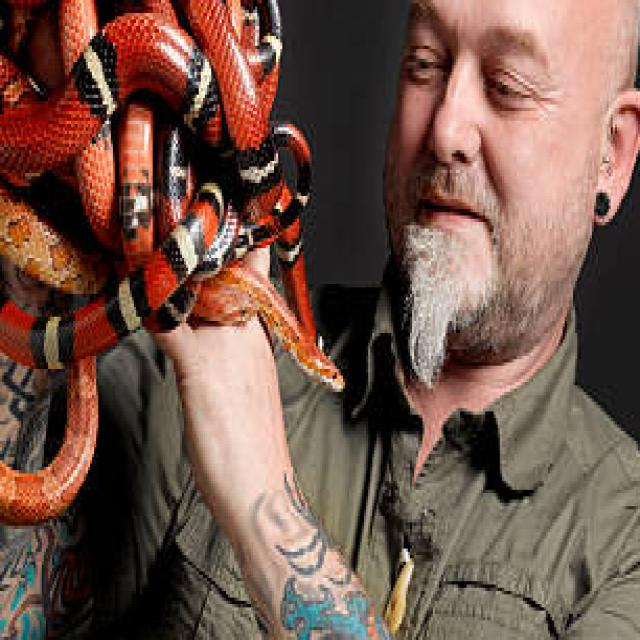snake: (0, 0, 345, 526)
